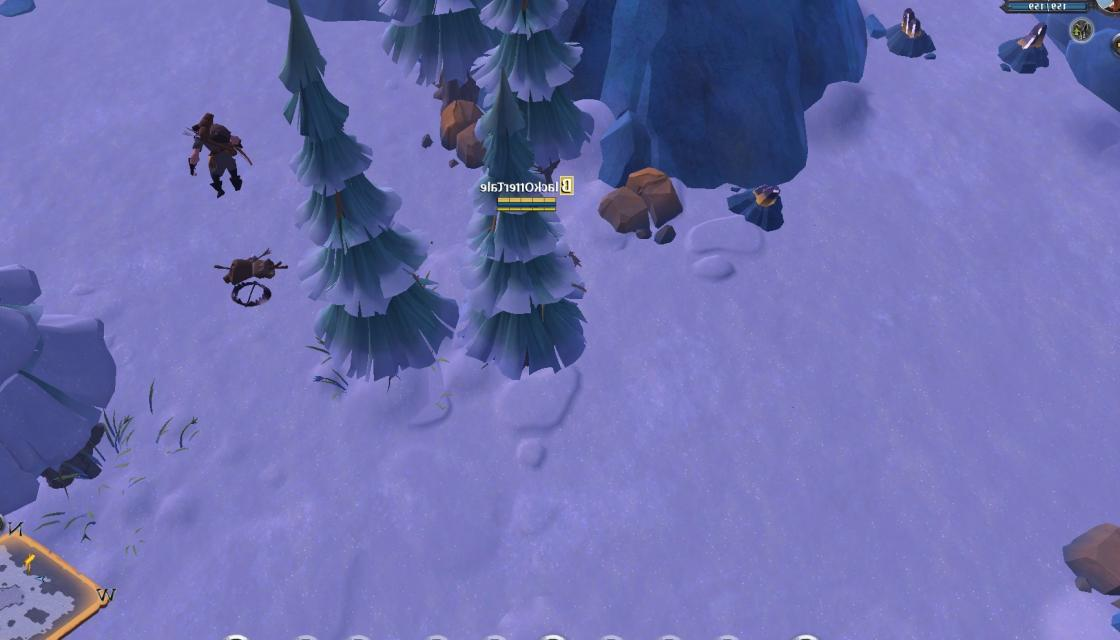copperore: (727, 174, 790, 234), (992, 19, 1056, 71), (885, 5, 940, 59)
limestone: (598, 162, 684, 248), (1059, 520, 1120, 619), (436, 96, 497, 165)
